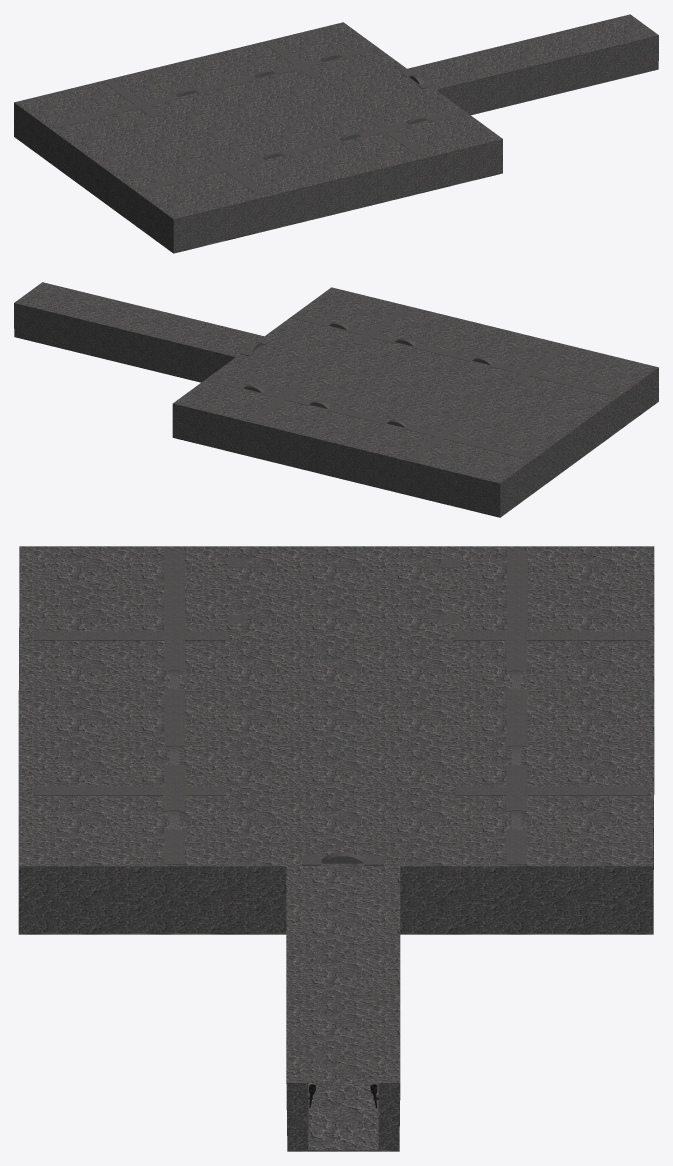
File: env_dungeon1.glb
3 renders of one model, top to bottom at view 1: azimuth 30°, elevation 25°; view 2: azimuth 150°, elevation 25°; view 3: azimuth 270°, elevation 25°, orthographic. The views are drawn at different scales.
Parts seen in each view (by area): view 1: pCube34_WallTex1_0; view 2: pCube34_WallTex1_0; view 3: pCube34_WallTex1_0.
Part boxes in pixels (box(x1,y1,x2,y2)): pCube34_WallTex1_0: box(14, 14, 658, 253); pCube34_WallTex1_0: box(14, 282, 658, 517); pCube34_WallTex1_0: box(18, 546, 654, 1151).
Bounding box in the file's own units: 134 × 8.8 × 66.88.
11 materials, 10 textured.
